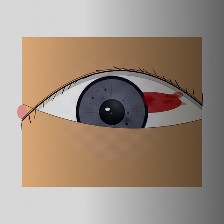hemorrhage_spot: (94, 62, 196, 143)
